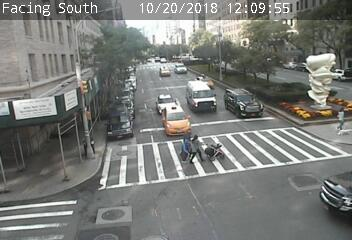car: (225, 89, 266, 118), (186, 80, 217, 113), (161, 106, 194, 137), (159, 65, 172, 76), (175, 64, 188, 74)
